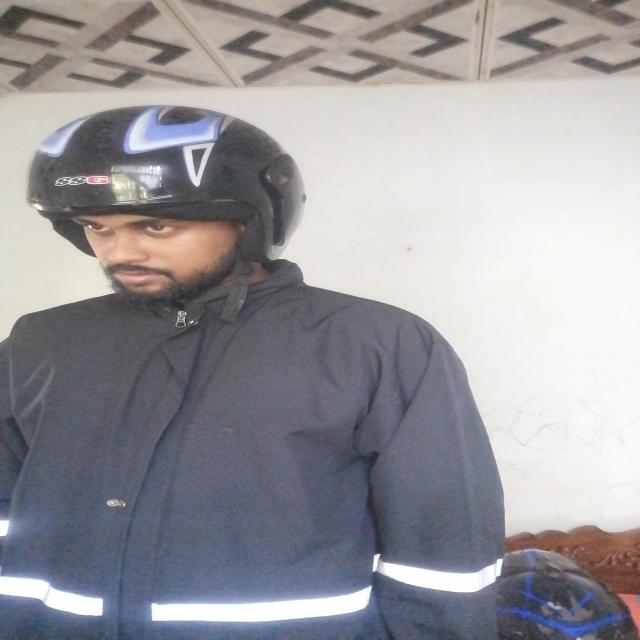Helmet_Wearer: (31, 92, 307, 314)
Jacket_Wearer: (12, 262, 489, 632)
Person: (3, 94, 505, 640)
